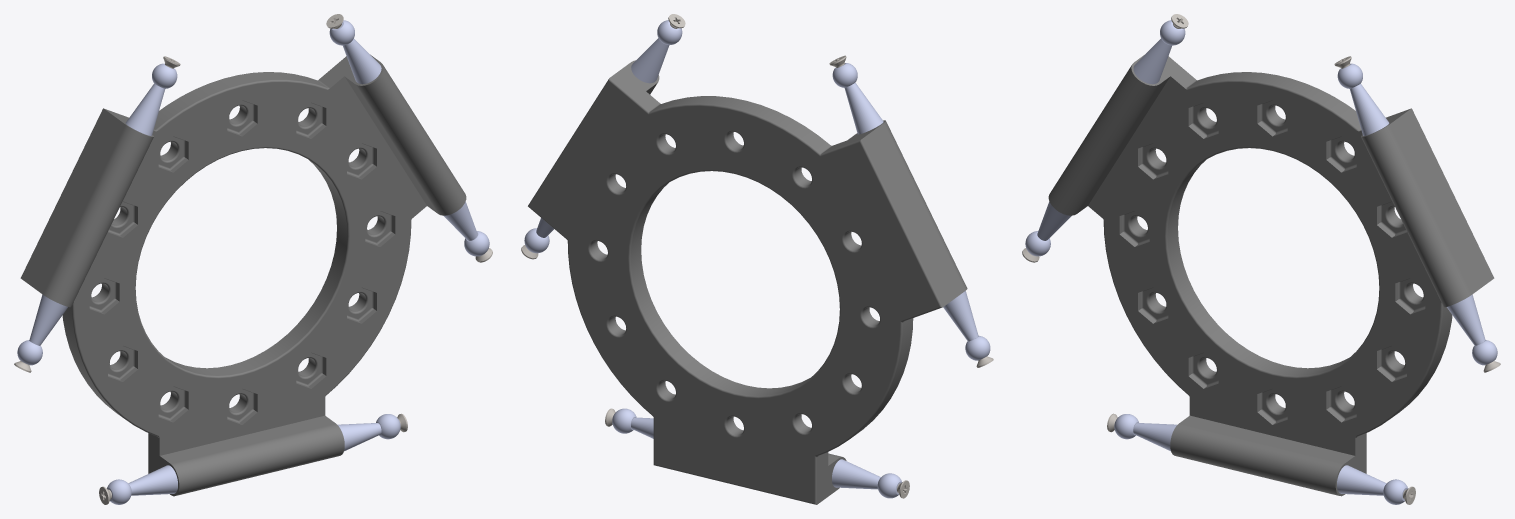
The model's file is effector.dae.
3 renders of one model, left to right at view 1: azimuth 30°, elevation 25°; view 2: azimuth 150°, elevation 25°; view 3: azimuth 330°, elevation 25°, orthographic.
Visible parts, largest first — view 1: Polygon (×7); view 2: Polygon (×5); view 3: Polygon (×7).
Part boxes in pixels (x1,y1,x2,y2): Polygon (×7): [20, 38, 477, 496]; Polygon (×5): [528, 38, 978, 504]; Polygon (×7): [1037, 38, 1494, 496].
Bounding box in the file's own units: 11.22 × 9.88 × 1.3.
